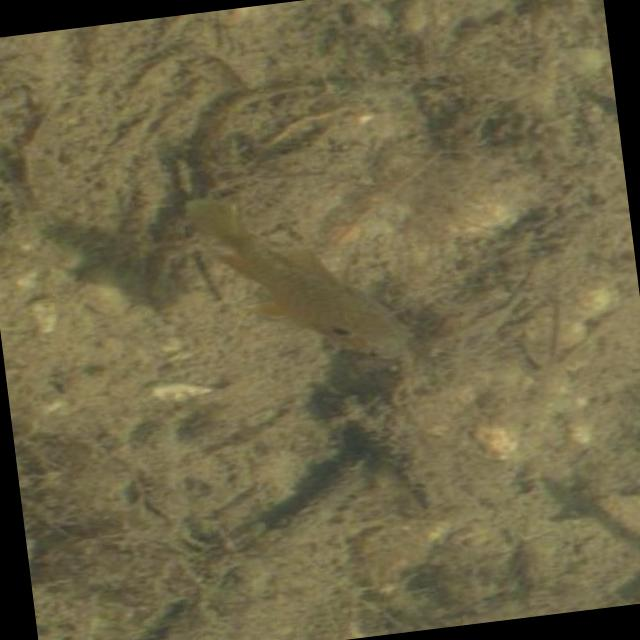Gunes Levregi: (167, 156, 414, 384)
